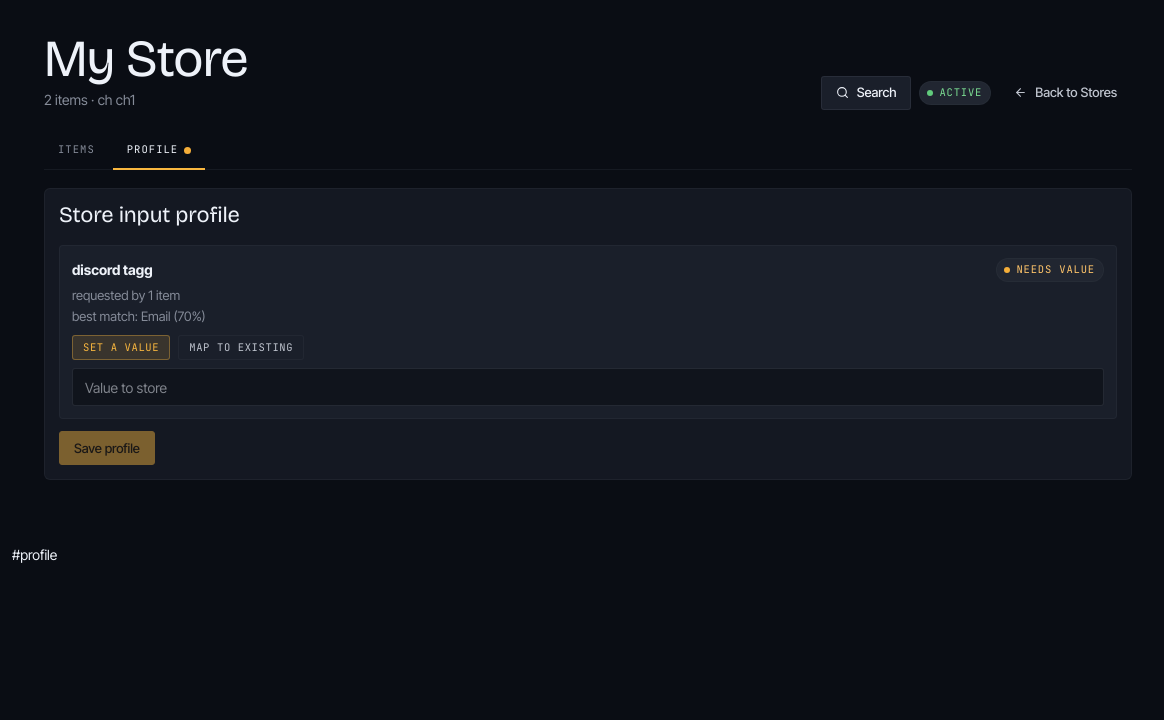
Test: StoreDetailPage notification dot › dot clears after mapping the last unresolved label to an existing value
Check: the element with test id "notification-dot" is shown, box [184,147,191,154]
Click the button with test id "profile-mode-alias-discord tagg". click: (241, 348)
box: [178,335,304,360]
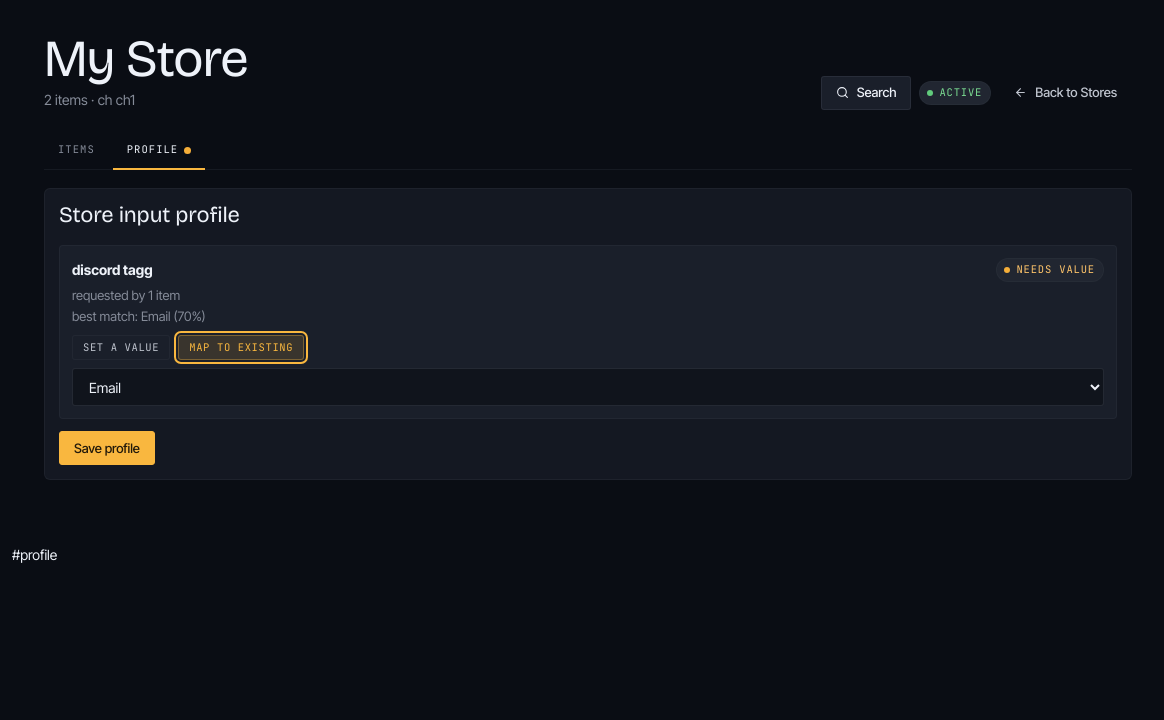
Click the button "Save profile". click: (107, 448)
box: [59,431,155,465]
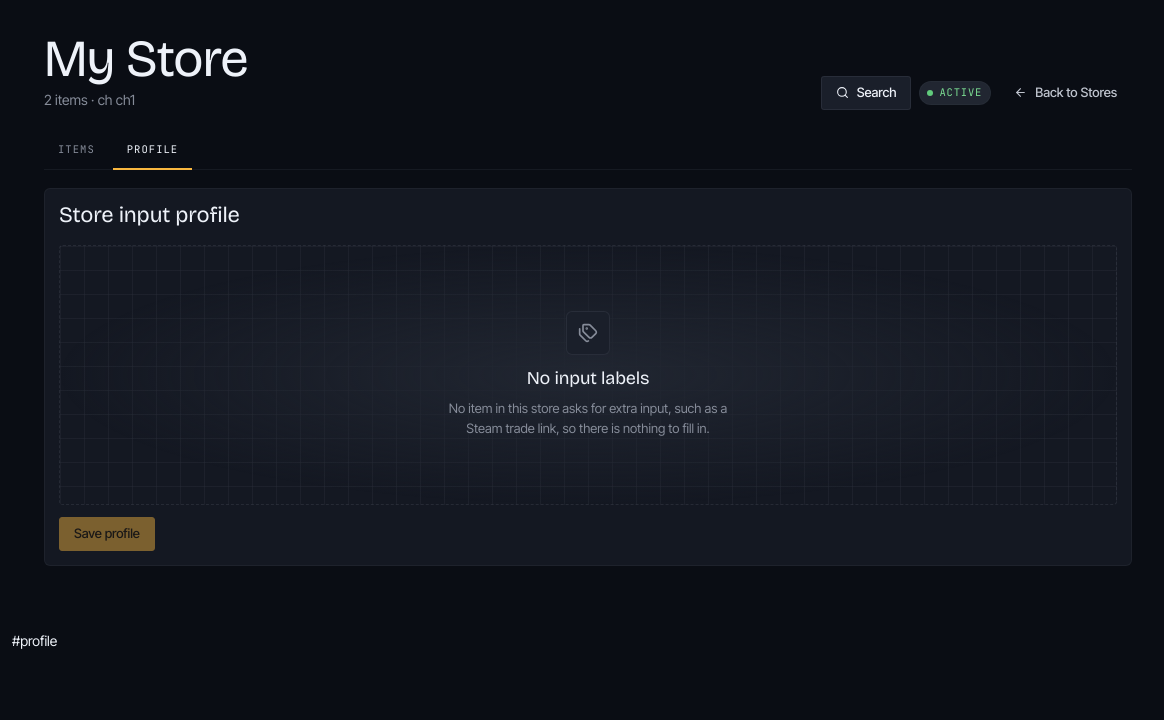
Check: the element with test id "notification-dot" is gone
